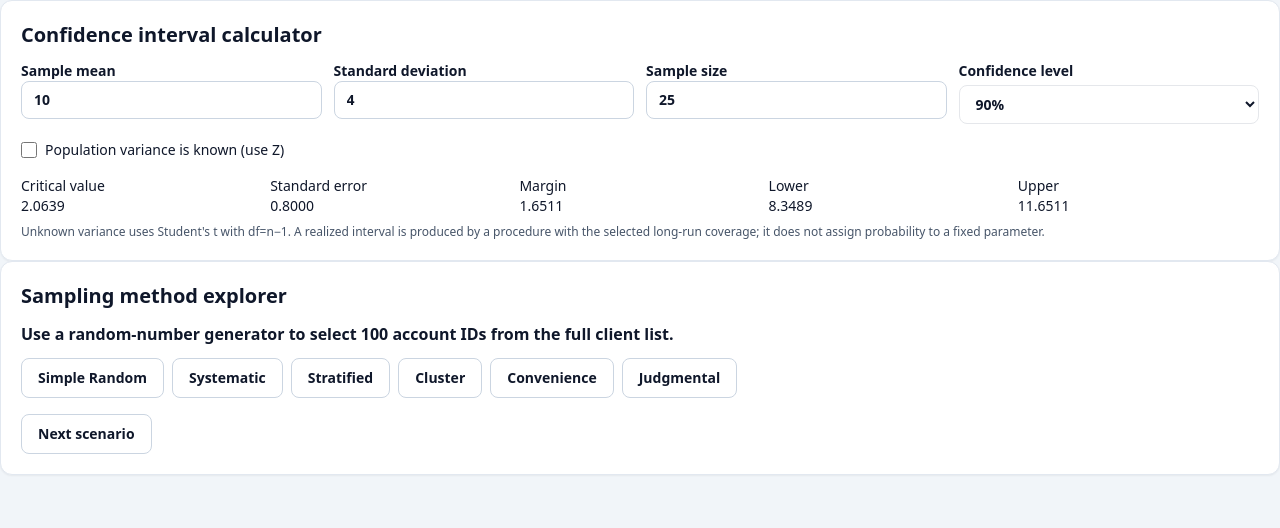
Test case: v1.4 lesson tools › shows confidence output and sampling feedback
This screenshot has width=1280, height=528.
expect the text "Critical value" is shown: met, box [21, 176, 105, 195]
Click the button "simple random": (92, 378) [21, 358, 164, 398]
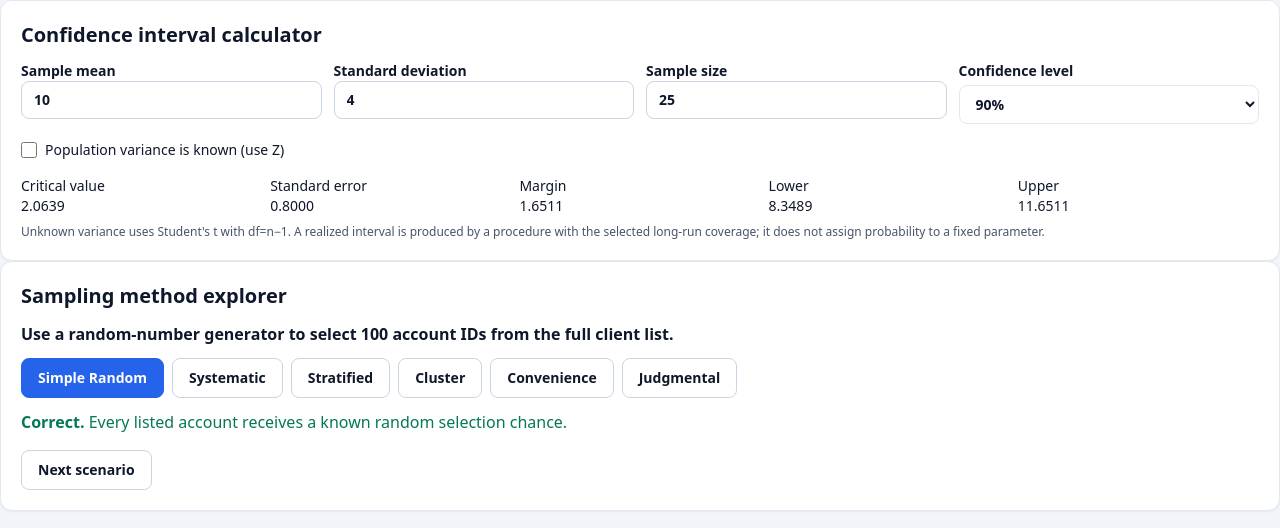
expect the text "Correct." is shown: met, box [21, 411, 84, 433]
